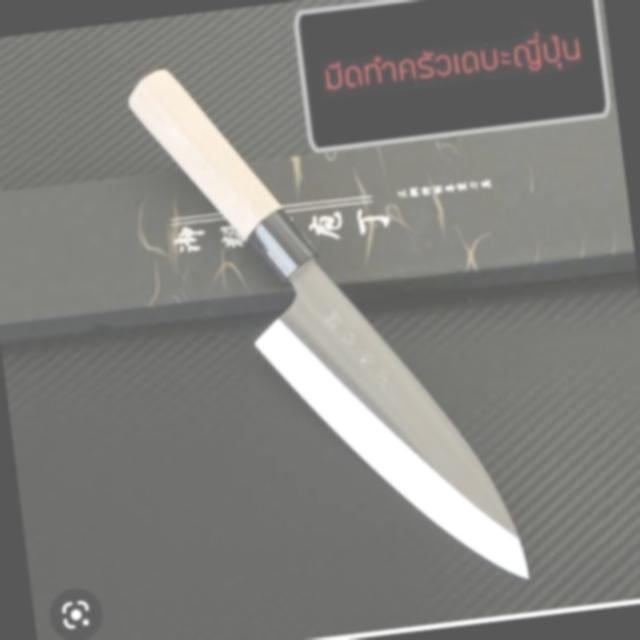knife: (113, 25, 539, 624)
